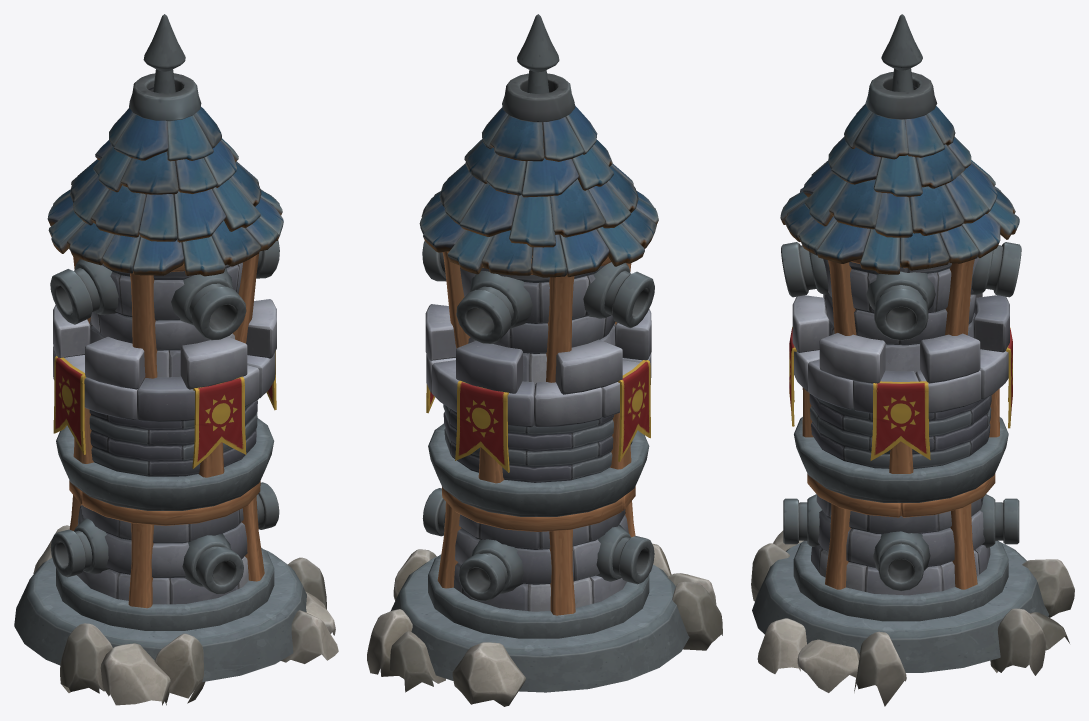
The model's file is SM_TowerDefense_Generic_Lv4.fbx.
3 renders of one model, left to right at view 1: azimuth 30°, elevation 25°; view 2: azimuth 150°, elevation 25°; view 3: azimuth 270°, elevation 25°, orthographic. The views are drawn at different scales.
Visible parts, largest first — view 1: SM_TowerDefense_Generic_Lv4; view 2: SM_TowerDefense_Generic_Lv4; view 3: SM_TowerDefense_Generic_Lv4.
Part boxes in pixels (box(x1,y1,x2,y2)): SM_TowerDefense_Generic_Lv4: box(14, 14, 338, 705); SM_TowerDefense_Generic_Lv4: box(367, 14, 722, 706); SM_TowerDefense_Generic_Lv4: box(751, 14, 1074, 706).
Size of the model in its own units: 947 by 1991 by 939.
